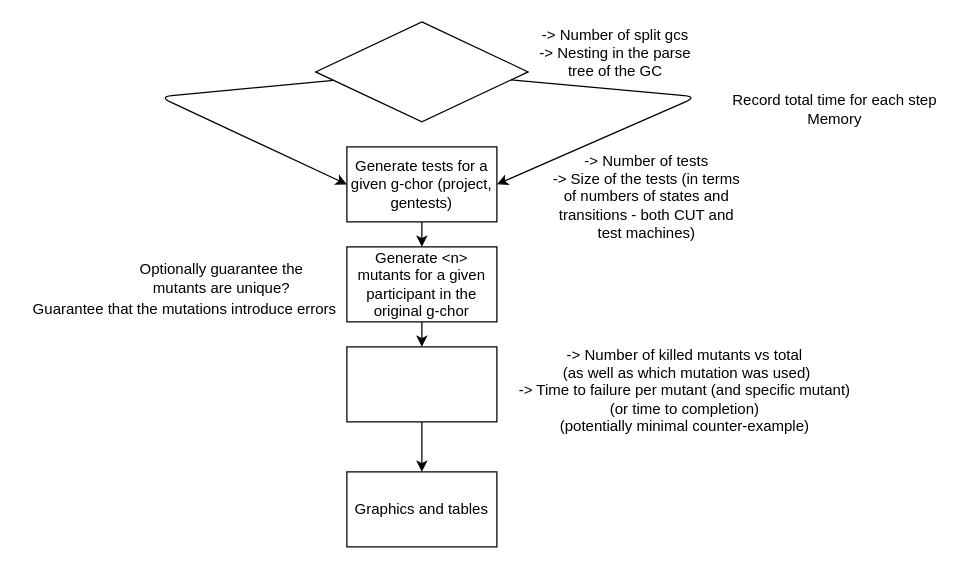
Image size: 968x569. Some labels were removed from this diagram. Each missing label, with the box of its shape:
Run the entire test suite for each of the n mutants (genlts & checklts): (346, 346, 497, 422)
split at the gc-level: (314, 21, 528, 122)
